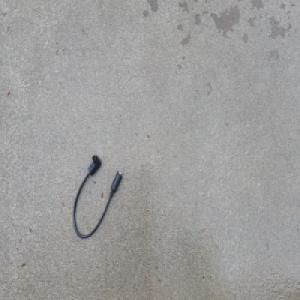Wire: (71, 153, 123, 240)
